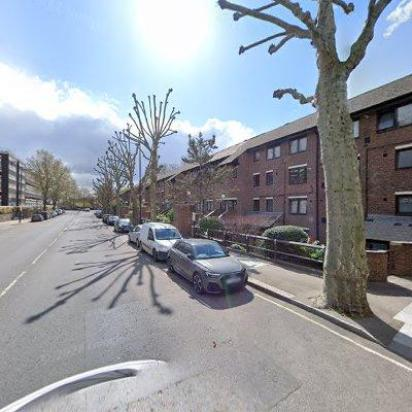moving-car: (0, 352, 224, 412), (84, 207, 90, 213)
stationary-car-onstreet: (166, 238, 248, 294), (127, 223, 143, 244), (114, 218, 132, 232), (30, 212, 44, 222)
stationary-light-truck-onstreet: (138, 221, 184, 262), (105, 213, 119, 225)
